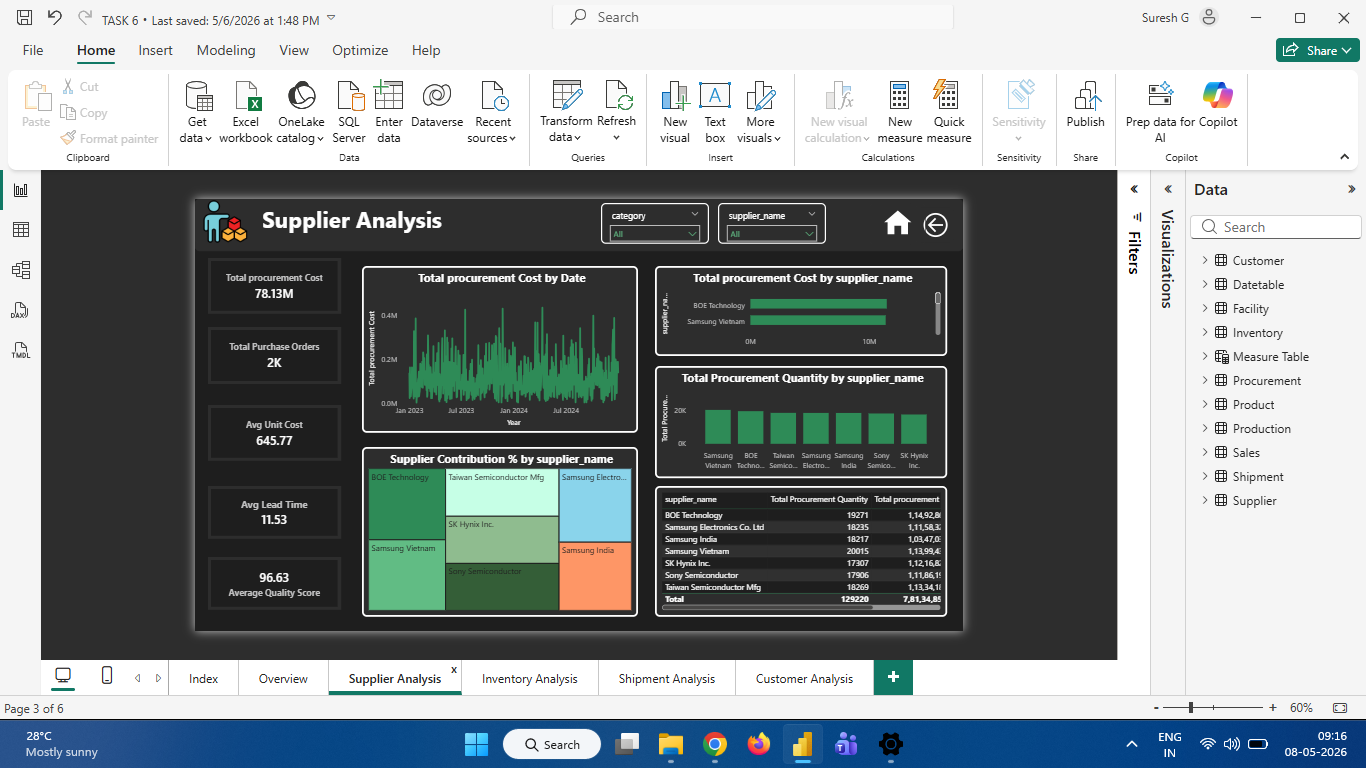

This screenshot's page, from the dashboard's own definition file:
{"tool":"powerbi","page":{"name":"Supplier Analysis","canvas":[1280,720],"ordinal":2},"visuals":[{"type":"textbox","box":[0,0,1280,86.7],"z":0},{"type":"cardVisual","fields":{"Data":["Measure Table.Total procurement Cost"]},"box":[21.7,98.3,221.7,93.3],"z":1},{"type":"cardVisual","fields":{"Data":["Measure Table.Total Purchase Orders"]},"box":[21.7,213.3,221.7,95],"z":2},{"type":"cardVisual","fields":{"Data":["Measure Table.Avg Unit Cost"]},"box":[21.7,343.3,221.7,93.3],"z":3},{"type":"cardVisual","fields":{"Data":["Measure Table.Avg Lead Time"]},"box":[21.7,478.3,221.7,88.3],"z":4},{"type":"cardVisual","fields":{"Data":["Measure Table.Average Quality Score"]},"box":[21.7,596.7,221.7,88.3],"z":5},{"type":"slicer","fields":{"Values":["Product.category"]},"box":[676.7,6.7,180,68.3],"z":6},{"type":"slicer","fields":{"Values":["Supplier.supplier_name"]},"box":[871.7,6.7,180,68.3],"z":7},{"type":"clusteredBarChart","fields":{"Y":["Measure Table.Total procurement Cost"],"Category":["Supplier.supplier_name"]},"box":[766.7,111.7,486.7,150],"z":8},{"type":"treemap","fields":{"Group":["Supplier.supplier_name"],"Values":["Measure Table.Supplier Contribution %"]},"box":[278.3,413.3,460,283.3],"z":9},{"type":"lineChart","title":"Total procurement Cost by Date","fields":{"Y":["Measure Table.Total procurement Cost"],"Category":["Datetable.date.Variation.Date Hierarchy.Year","Datetable.date.Variation.Date Hierarchy.Quarter","Datetable.date.Variation.Date Hierarchy.Month","Datetable.date.Variation.Date Hierarchy.Day"]},"box":[278.3,111.7,460,278.3],"z":10},{"type":"clusteredColumnChart","fields":{"Category":["Supplier.supplier_name"],"Y":["Measure Table.Total Procurement Quantity"]},"box":[766.7,278.3,486.7,186.7],"z":11},{"type":"tableEx","fields":{"Values":["Supplier.supplier_name","Measure Table.Total Procurement Quantity","Measure Table.Total procurement Cost","Measure Table.Avg Cost Per Unit"]},"box":[766.7,478.3,486.7,218.3],"z":12},{"type":"image","box":[0,0,101.7,75],"z":13},{"type":"actionButton","box":[1168.3,15,73.3,60],"z":14},{"type":"image","box":[1085,15,95,61.7],"z":15}]}

Visuals, with their boxes on the page's 1280x720 design canvas (x1, y1, x2, y2). These are canvas units, not pixel positions in the 1366x768 screenshot, which may show the page scaled, cropped or inside an application window:
textbox: bbox=[0, 0, 1280, 87]
cardVisual - Measure Table.Total procurement Cost: bbox=[22, 98, 243, 192]
cardVisual - Measure Table.Total Purchase Orders: bbox=[22, 213, 243, 308]
cardVisual - Measure Table.Avg Unit Cost: bbox=[22, 343, 243, 437]
cardVisual - Measure Table.Avg Lead Time: bbox=[22, 478, 243, 567]
cardVisual - Measure Table.Average Quality Score: bbox=[22, 597, 243, 685]
slicer - Product.category: bbox=[677, 7, 857, 75]
slicer - Supplier.supplier_name: bbox=[872, 7, 1052, 75]
clusteredBarChart - Measure Table.Total procurement Cost x Supplier.supplier_name: bbox=[767, 112, 1253, 262]
treemap - Supplier.supplier_name x Measure Table.Supplier Contribution %: bbox=[278, 413, 738, 697]
"Total procurement Cost by Date" lineChart: bbox=[278, 112, 738, 390]
clusteredColumnChart - Supplier.supplier_name x Measure Table.Total Procurement Quantity: bbox=[767, 278, 1253, 465]
tableEx - Supplier.supplier_name x Measure Table.Total Procurement Quantity: bbox=[767, 478, 1253, 697]
image: bbox=[0, 0, 102, 75]
actionButton: bbox=[1168, 15, 1242, 75]
image: bbox=[1085, 15, 1180, 77]
